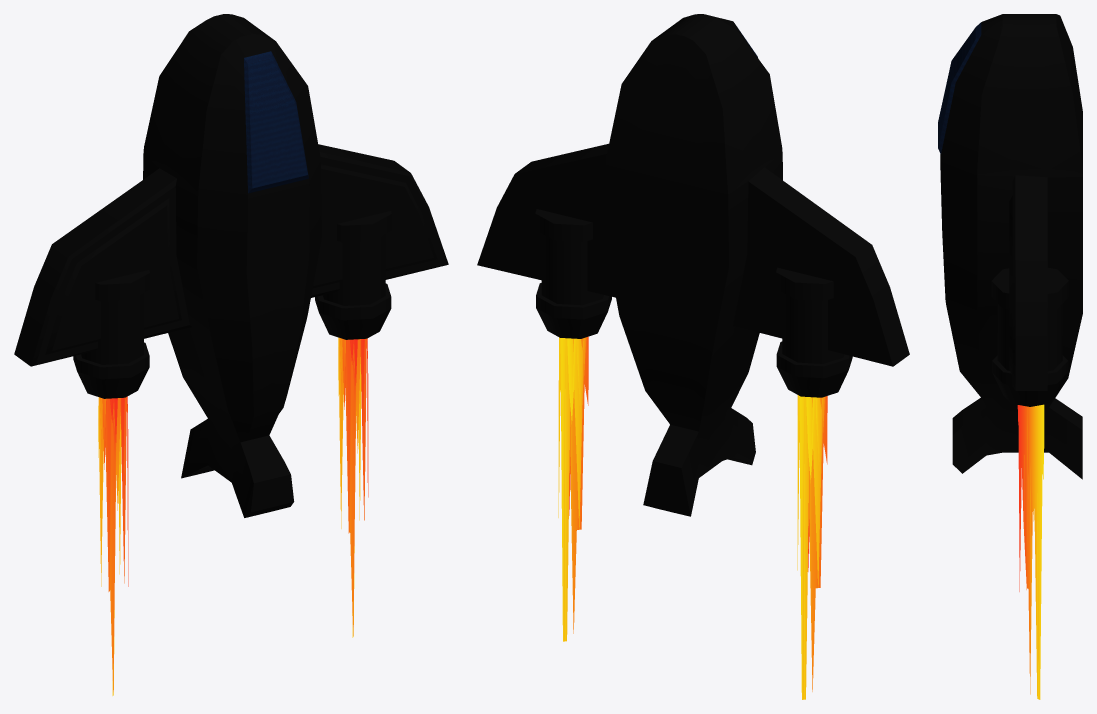
The model's file is spaceship.gltf.
3 views of the same model, side by side, from view 1: azimuth 30°, elevation 25°; view 2: azimuth 150°, elevation 25°; view 3: azimuth 270°, elevation 25° (orthographic). The views are drawn at different scales.
Parts seen in each view (by area): view 1: Cube, Cube.003, Cube.001, Cube.002; view 2: Cube, Cube.001, Cube.002; view 3: Cube, Cube.002, Cube.003.
Boxes of the visible parts, box(x1,y1,x2,y2) form: Cube: box(14, 14, 448, 517); Cube.003: box(244, 51, 308, 193); Cube.001: box(98, 396, 128, 695); Cube.002: box(338, 337, 368, 637); Cube: box(477, 14, 909, 516); Cube.001: box(797, 395, 827, 699); Cube.002: box(558, 336, 588, 641); Cube: box(940, 14, 1082, 479); Cube.002: box(1017, 404, 1044, 699); Cube.003: box(938, 22, 981, 153).
Bounding box in the file's own units: 5.28 × 7.8 × 1.65.
3 materials, 3 textured.
